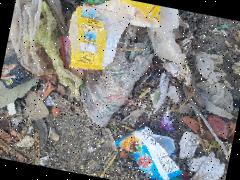general: (108, 115, 190, 180), (61, 4, 113, 74), (0, 52, 36, 94), (52, 34, 76, 71), (164, 175, 208, 180)
plastic: (2, 0, 73, 81)
